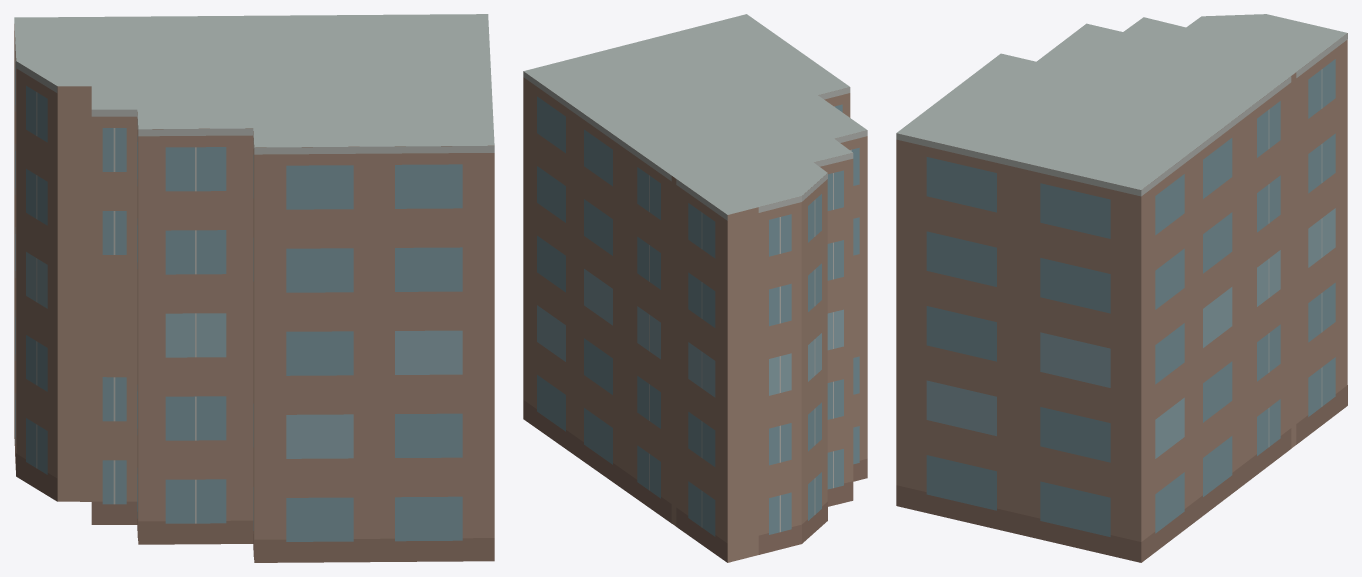
The model's file is survey-upis-32982875.glb.
3 renders of one model, left to right at view 1: azimuth 30°, elevation 25°; view 2: azimuth 150°, elevation 25°; view 3: azimuth 270°, elevation 25°, orthographic. The views are drawn at different scales.
Visible parts, largest first — view 1: survey-upis-32982875.tmp; view 2: survey-upis-32982875.tmp; view 3: survey-upis-32982875.tmp.
Boxes of the visible parts, x1,y1,x2,y2 form: survey-upis-32982875.tmp: [14, 14, 494, 562]; survey-upis-32982875.tmp: [523, 14, 867, 562]; survey-upis-32982875.tmp: [896, 14, 1347, 562].
Size of the model in its own units: 14.5 by 14.3 by 15.71.
